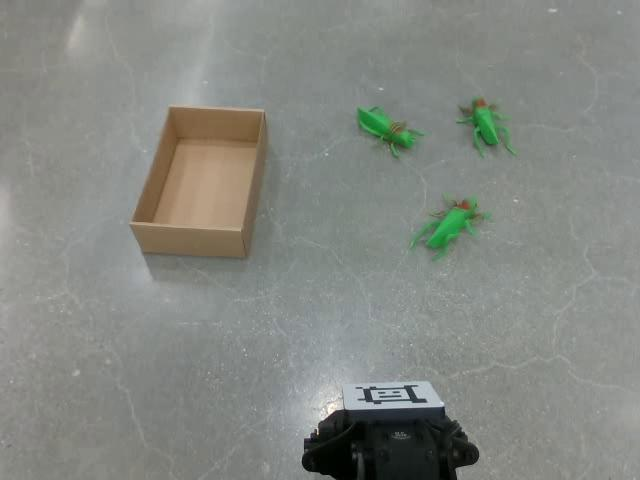box: (128, 104, 267, 258)
grasshopper: (408, 193, 490, 261), (455, 96, 517, 158), (355, 104, 424, 158)
